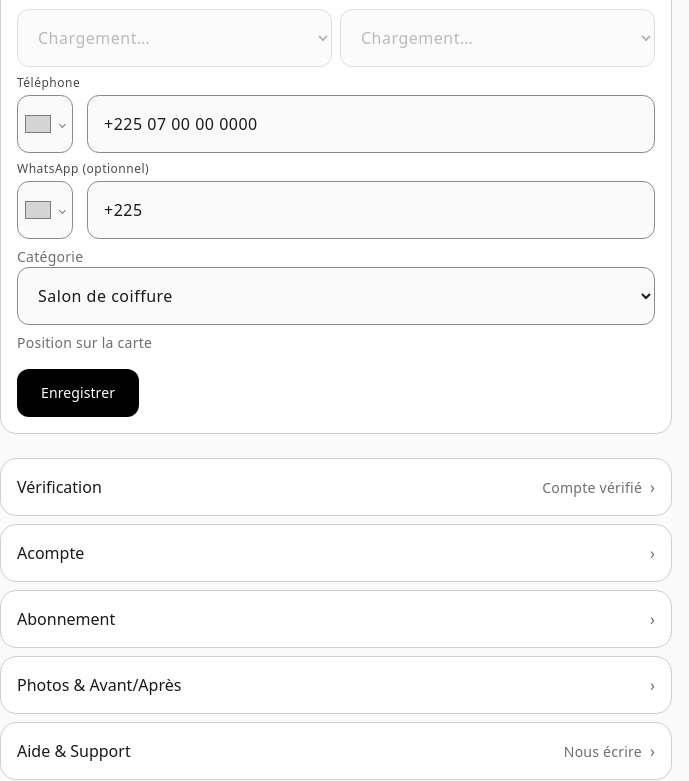
Test: the server’s phone codes land under their fields › Profil — invalid_phone sits under « Téléphone », WhatsApp untouched
The width and height of the screenshot is (689, 781).
(page scrolled)
What coordinates should you click on to do the following:
click the button "Enregistrer"
I would click on:
 (78, 393)
Its box is left=17, top=369, right=139, bottom=417.
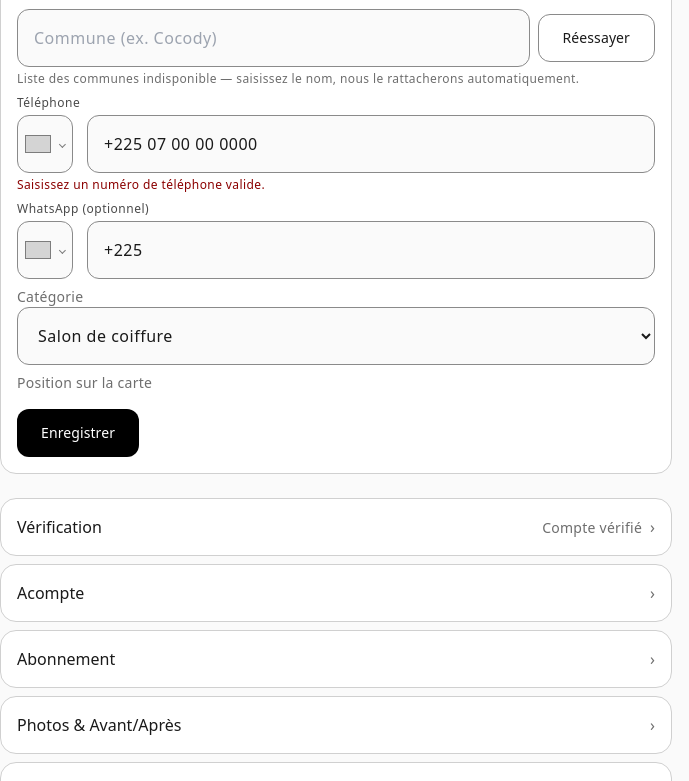
Check: the text "Saisissez un numéro de téléphone valide." is shown, box left=17, top=176, right=265, bottom=193
